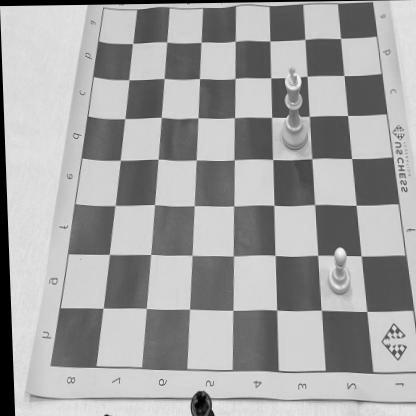white-king: (276, 61, 310, 152)
white-pawn: (322, 242, 353, 300)
